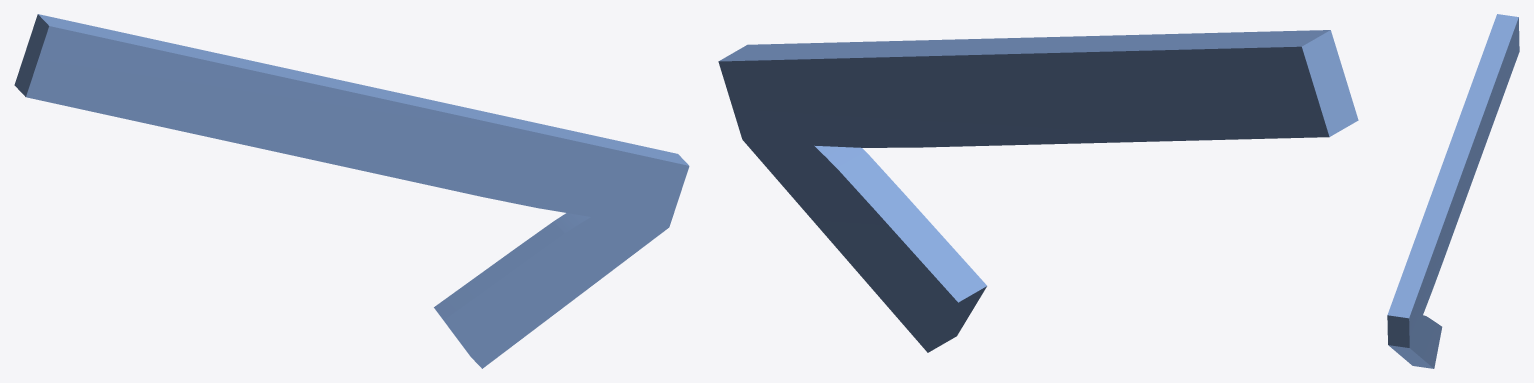
Rendered from New_Number_1.gltf.
3 renders of one model, left to right at view 1: azimuth 30°, elevation 25°; view 2: azimuth 150°, elevation 25°; view 3: azimuth 270°, elevation 25°, orthographic. The views are drawn at different scales.
Visible parts, largest first — view 1: Part 469; view 2: Part 469; view 3: Part 469.
Boxes of the visible parts, x1,y1,x2,y2 form: Part 469: (14,14,689,368); Part 469: (718,30,1358,352); Part 469: (1387,14,1519,368).
Bounding box in the file's own units: 0.00483 × 0.00305 × 0.00152.
